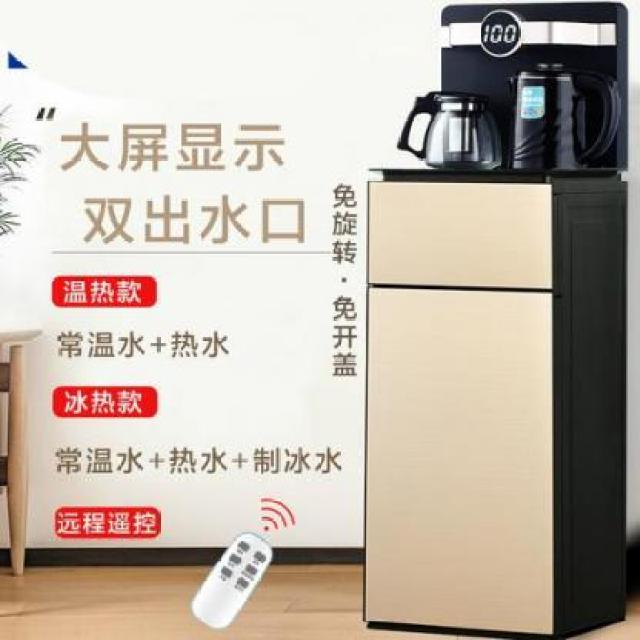cooler: (363, 0, 629, 640)
